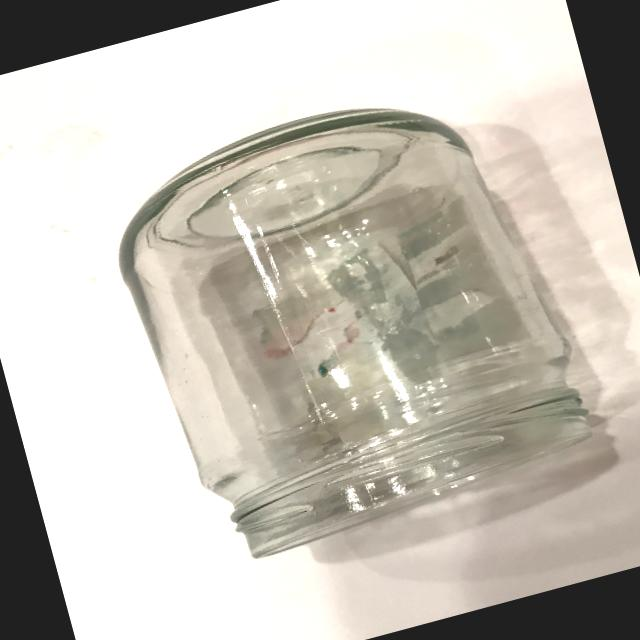Glass: (79, 57, 622, 583)
